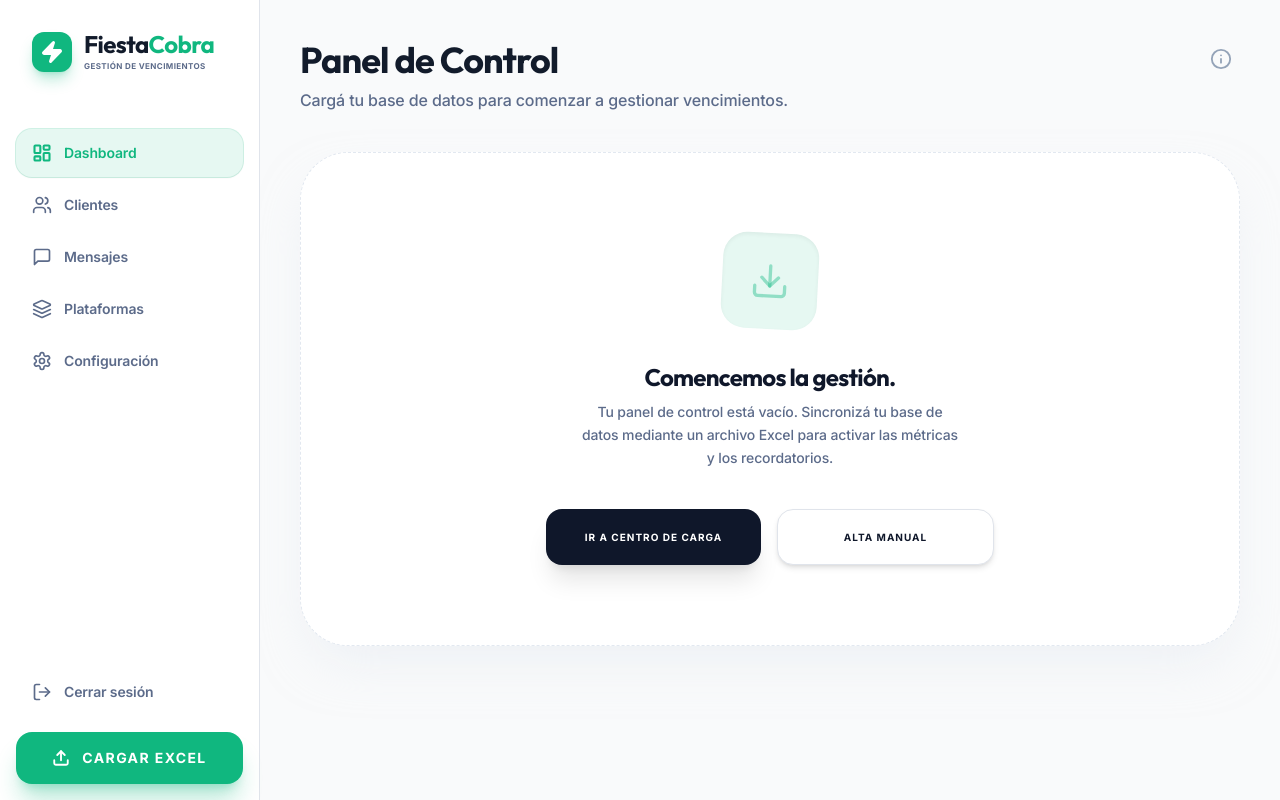
Test: dashboard › sin clientes invita a cargar la base
Expected: the heading "Panel de Control" is shown, top-left (300, 37), bottom-right (558, 82)
Expected: the heading "Comencemos la gestión." is shown, top-left (644, 361), bottom-right (896, 393)
Click the button "Cargar Excel": (130, 758) top-left (16, 732), bottom-right (243, 784)
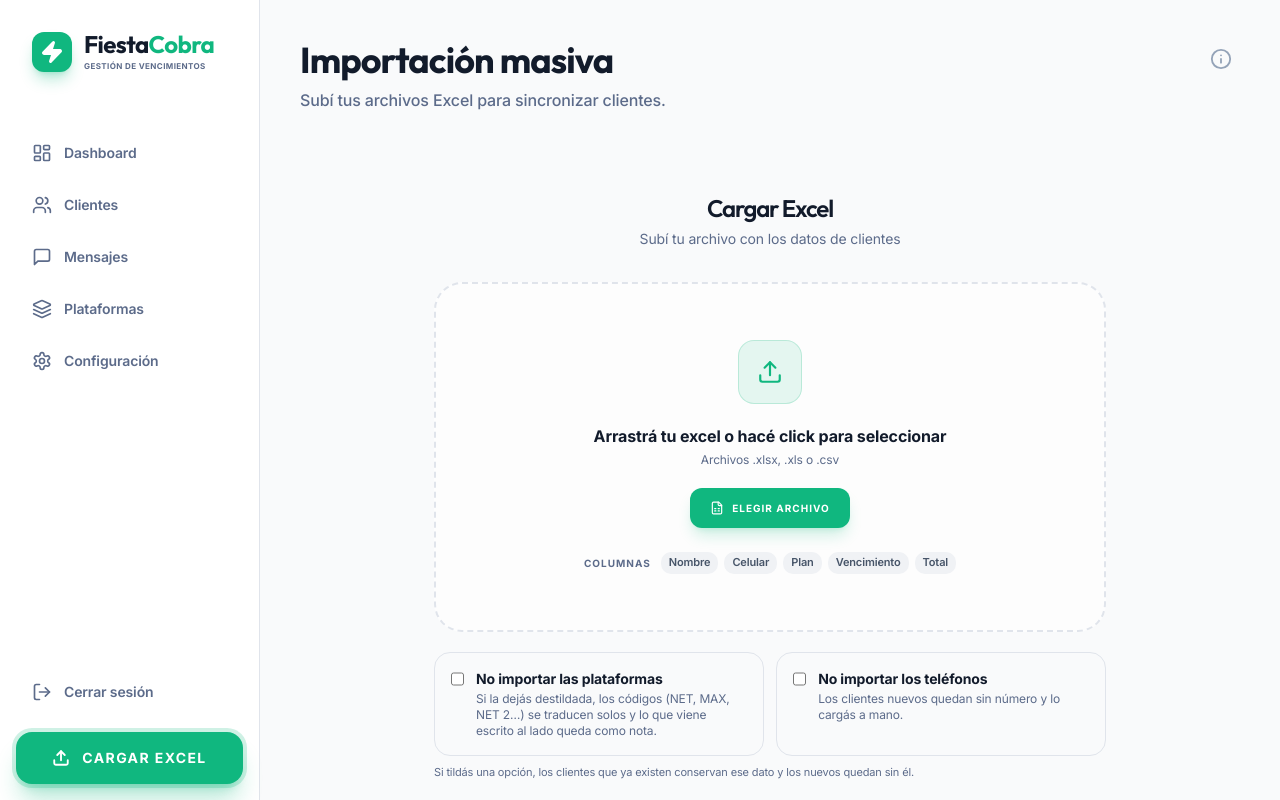
Now the heading "Importación masiva" is shown, box top-left (300, 37), bottom-right (613, 82)
